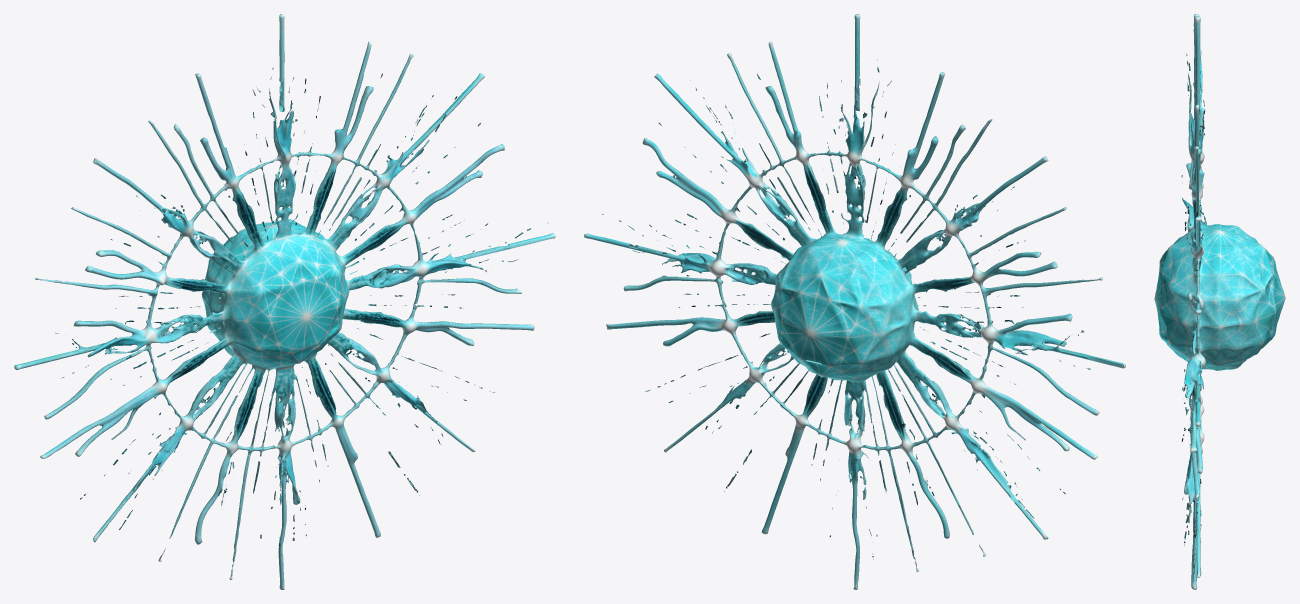
The model's file is mission-nucleus.glb.
The picture shows the model from 3 angles, left to right: view 1: azimuth 30°, elevation 25°; view 2: azimuth 150°, elevation 25°; view 3: azimuth 270°, elevation 25°; orthographic projection. The views are drawn at different scales.
Parts seen in each view (by area): view 1: Mesh_0; view 2: Mesh_0; view 3: Mesh_0.
Boxes of the visible parts, x1,y1,x2,y2 form: Mesh_0: (14,14,555,589); Mesh_0: (584,14,1125,589); Mesh_0: (1154,14,1285,589).
Size of the model in its own units: 1.88 by 1.91 by 0.4079.
Materials: 1 (1 with a texture image).
